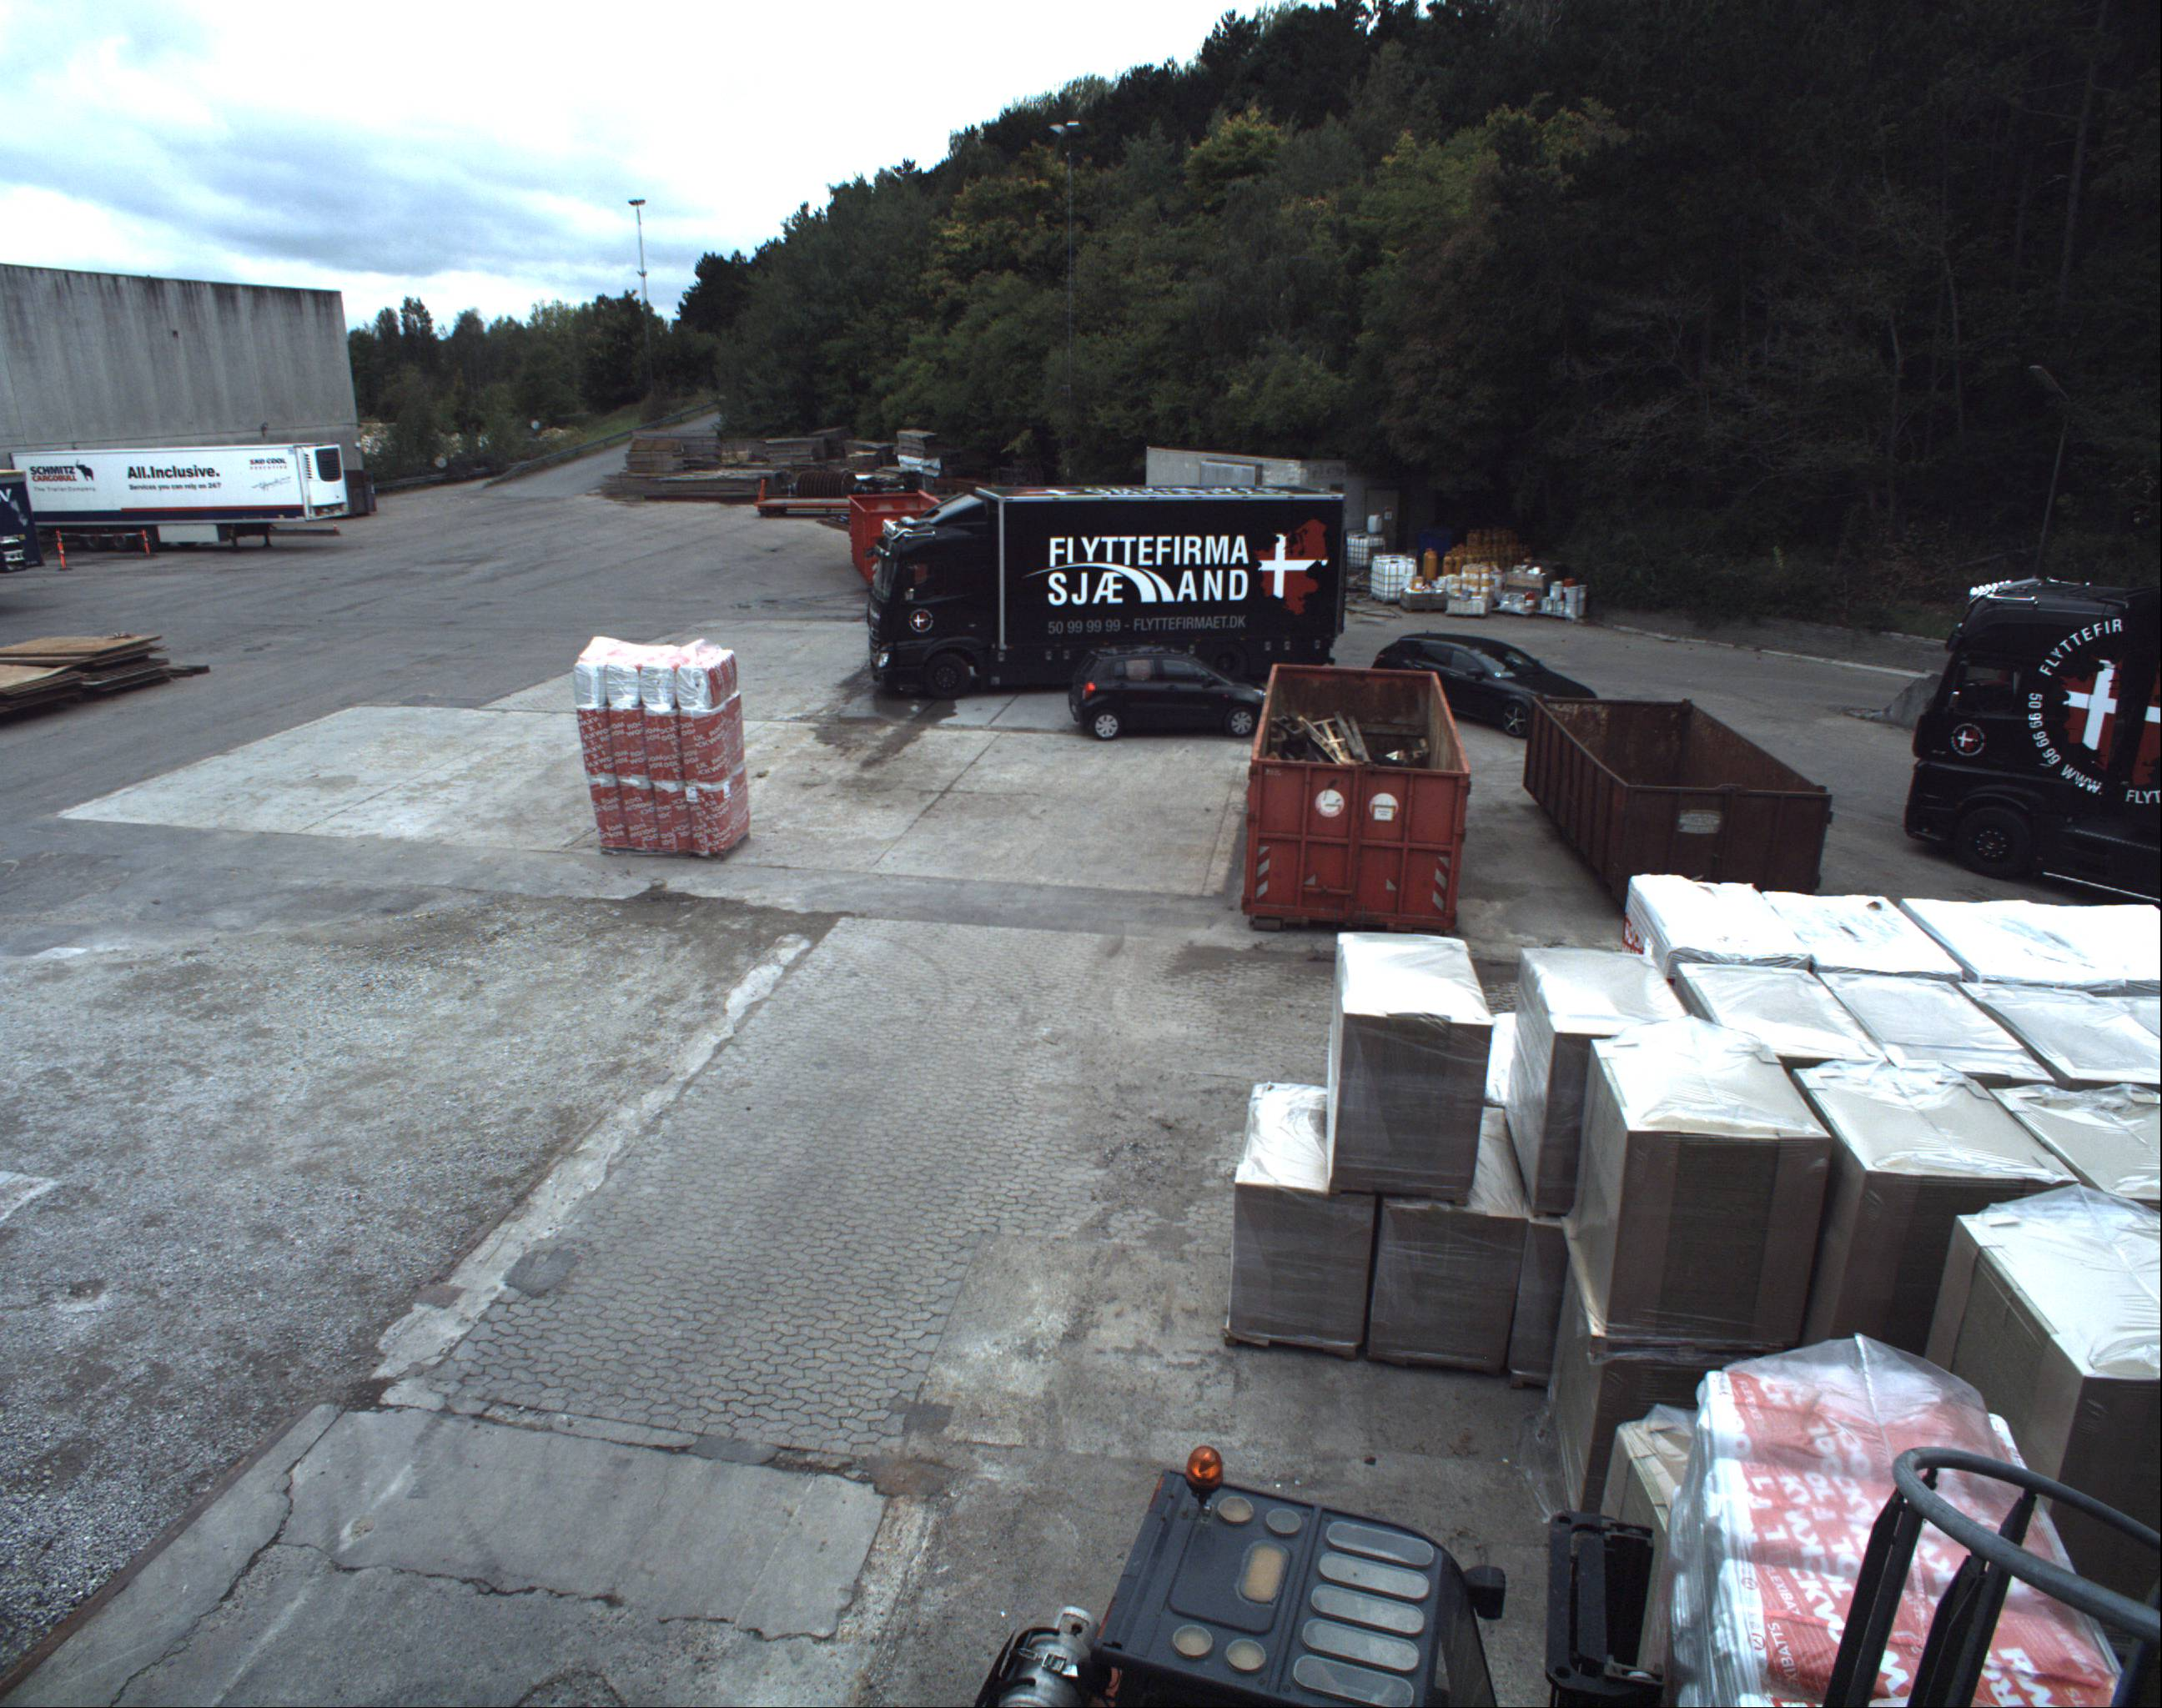rockwool_batts: (1669, 1374, 2111, 1706), (577, 637, 748, 851)
